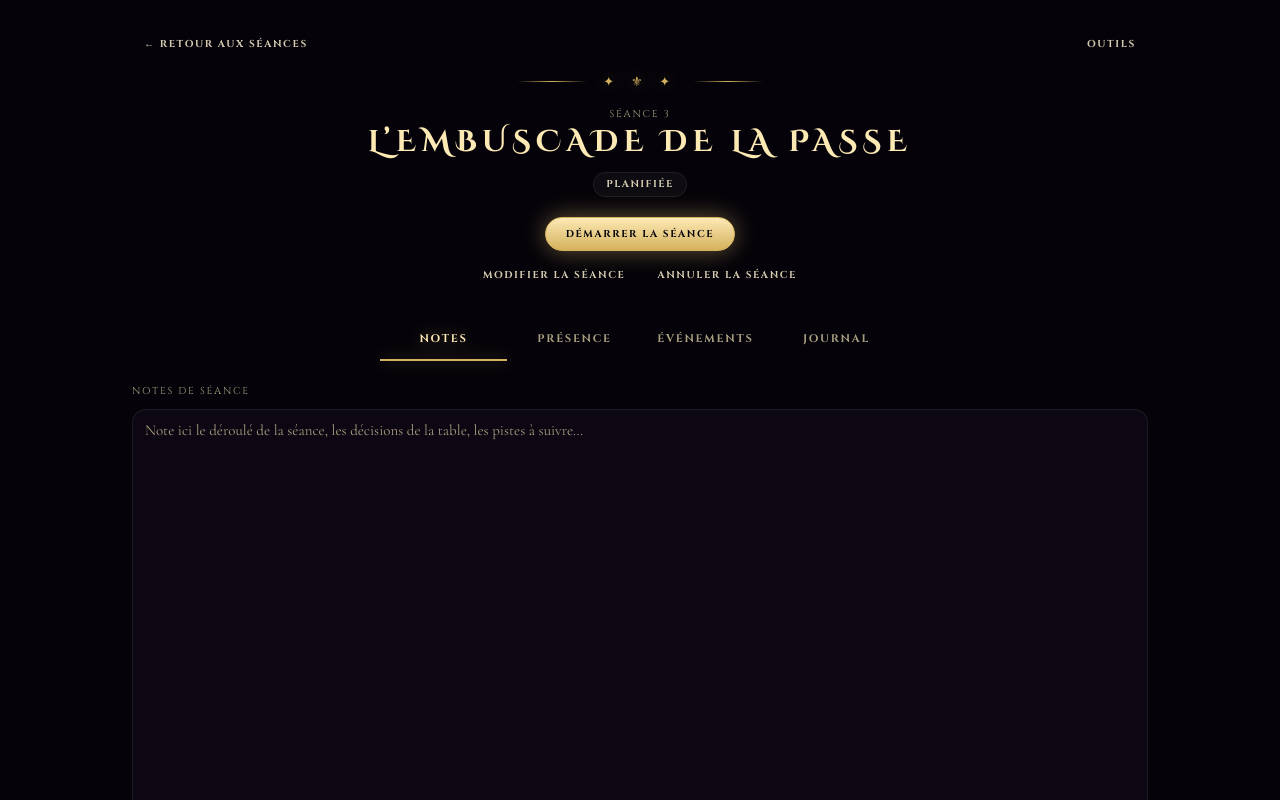
Scenario: <SessionScreen> — cycle de vie (M13) › numéro invalide → refus explicite, aucune écriture
The image size is (1280, 800).
Click the button "Modifier la séance": (554, 274) [471,262,638,286]
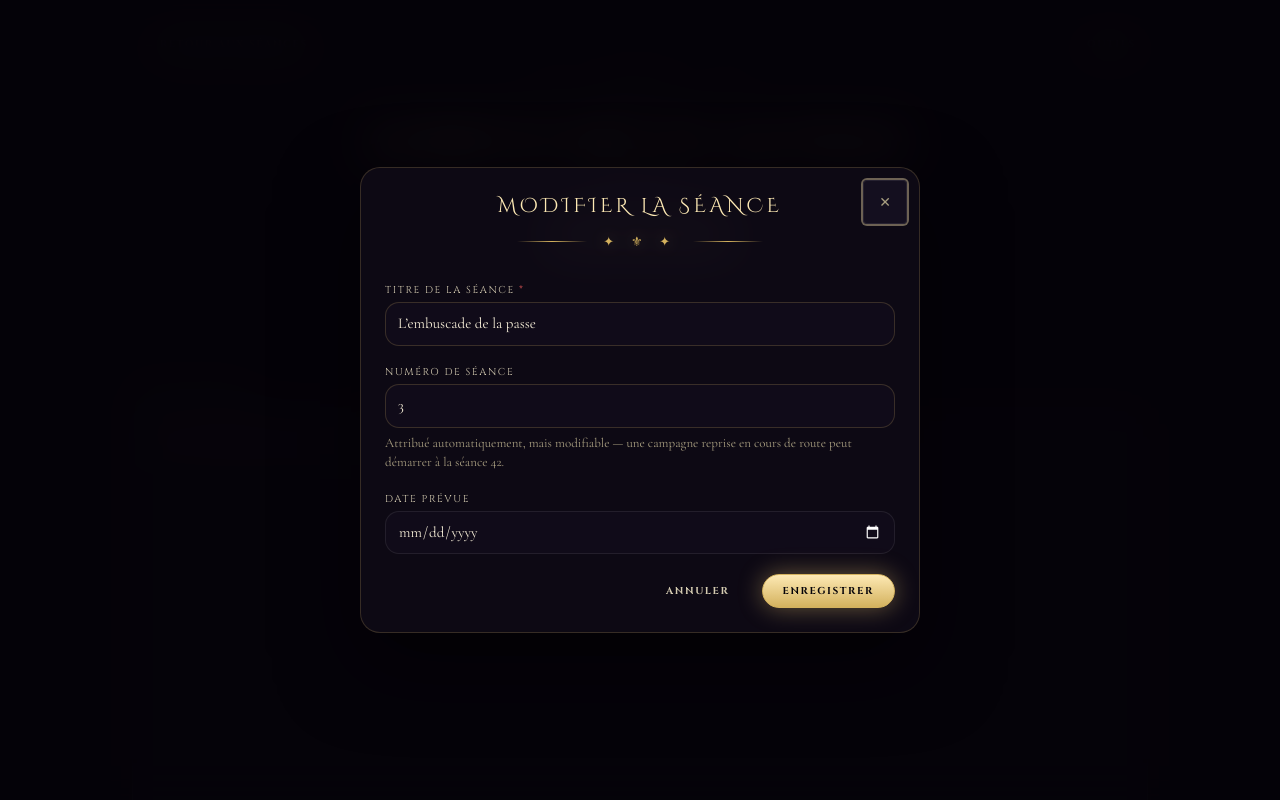
Replace the text in the field showing "3" with "0": (640, 406) [385,384,895,428]
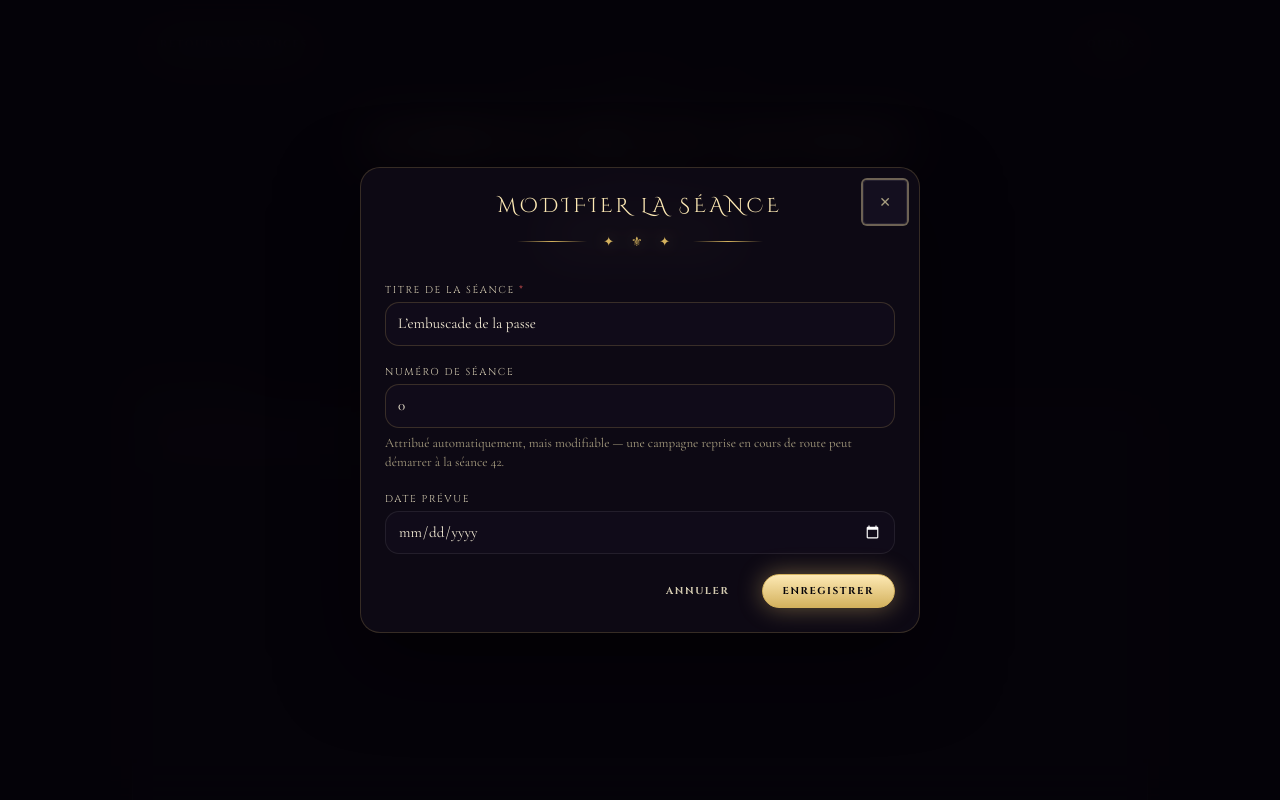
Click the button "Enregistrer": (828, 591) [762,574,895,608]
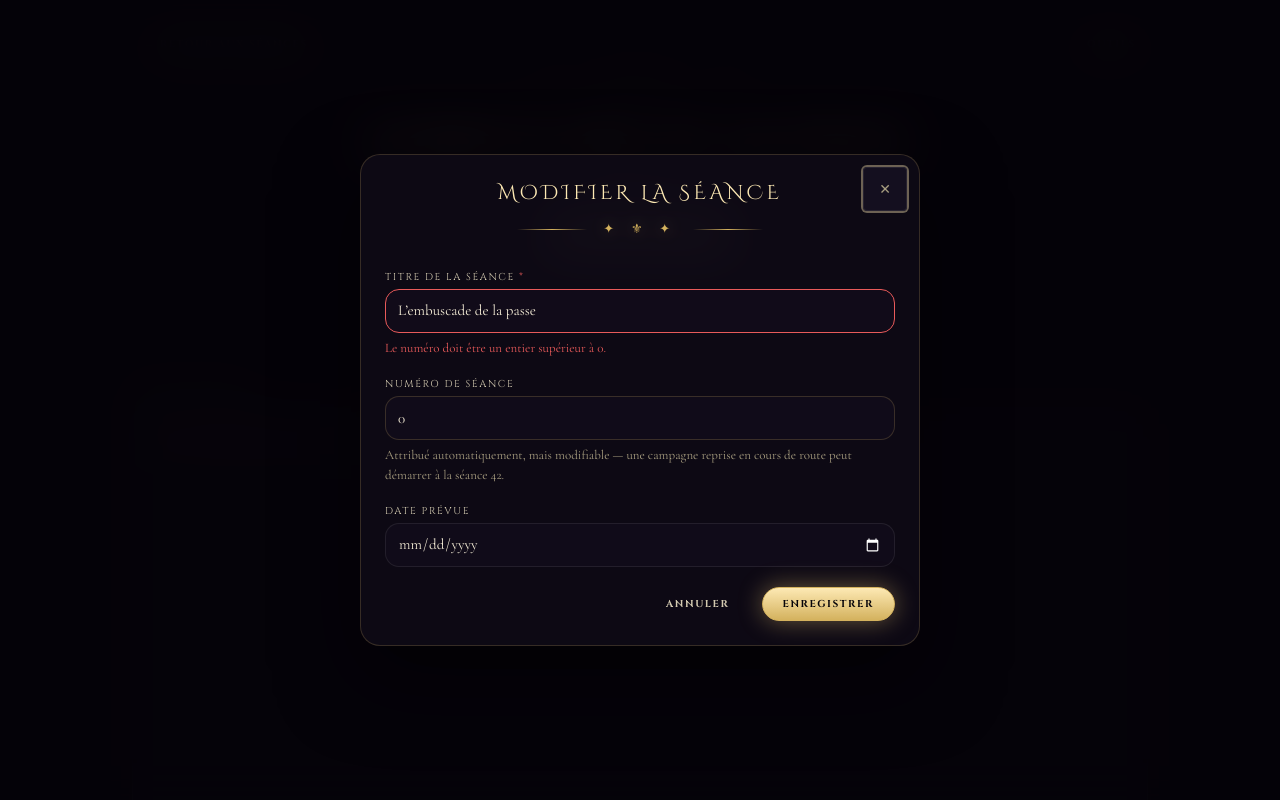
Check: the text "Le numéro doit être un entier supérieur à 0." is shown, box [385,340,606,356]
